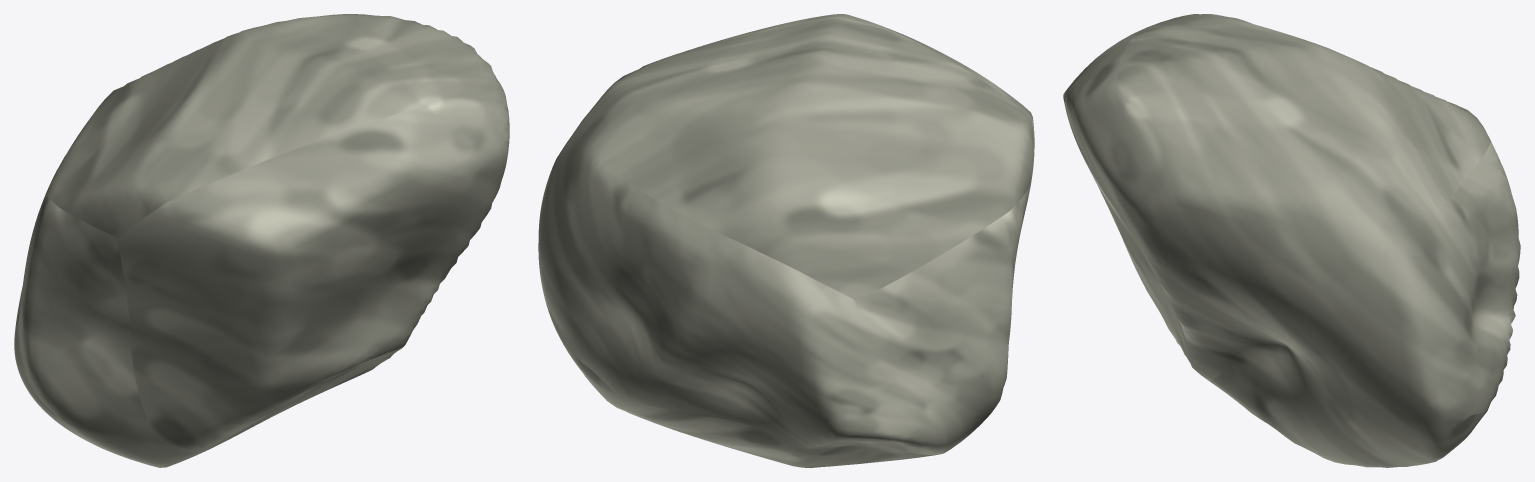
File: Rock4.fbx
The picture shows the model from 3 angles, left to right: view 1: azimuth 30°, elevation 25°; view 2: azimuth 150°, elevation 25°; view 3: azimuth 270°, elevation 25°; orthographic projection. The views are drawn at different scales.
Visible parts, largest first — view 1: Cube.003; view 2: Cube.003; view 3: Cube.003.
Boxes of the visible parts, left/top/right/bottom form: Cube.003: left=14, top=14, right=509, bottom=467; Cube.003: left=538, top=14, right=1034, bottom=467; Cube.003: left=1063, top=14, right=1520, bottom=467.
Size of the model in its own units: 152 by 126 by 130.
1 material, 1 textured.
